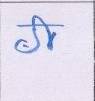i_matra: (34, 15, 56, 49)
